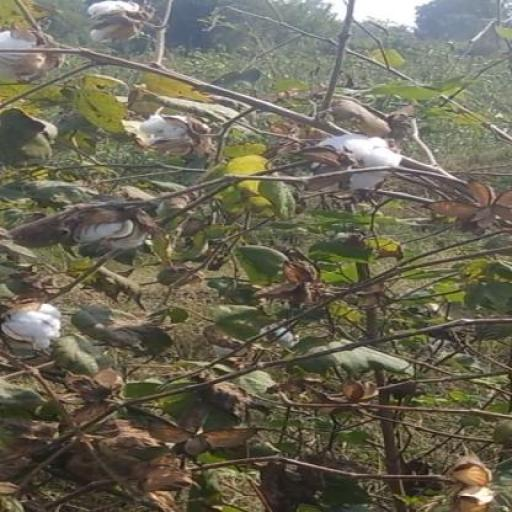cotton_ready: (298, 144, 412, 196), (66, 4, 191, 51), (1, 297, 84, 364)
